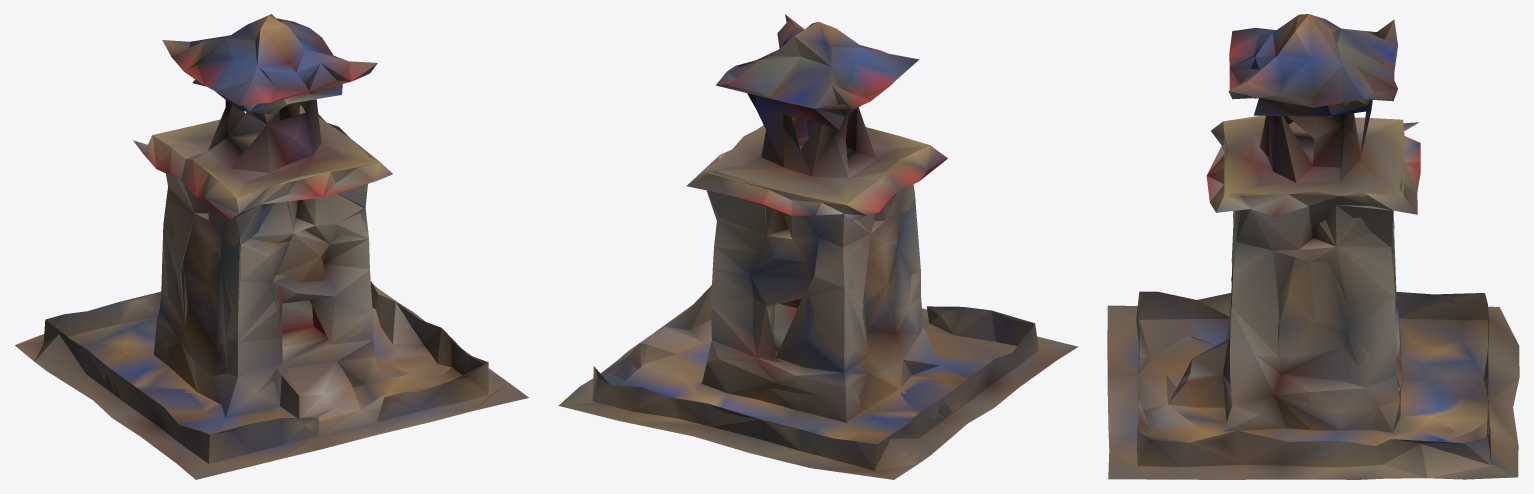
File: bq_sword_tower.vc2.glb
The picture shows the model from 3 angles, left to right: view 1: azimuth 30°, elevation 25°; view 2: azimuth 150°, elevation 25°; view 3: azimuth 270°, elevation 25°; orthographic projection. The views are drawn at different scales.
Parts seen in each view (by area): view 1: bq_sword_tower; view 2: bq_sword_tower; view 3: bq_sword_tower.
Boxes of the visible parts, <box> form: bq_sword_tower: <box>14,14,528,479</box>; bq_sword_tower: <box>558,14,1078,479</box>; bq_sword_tower: <box>1107,14,1519,479</box>.
Size of the model in its own units: 1.73 by 1.76 by 1.73.
